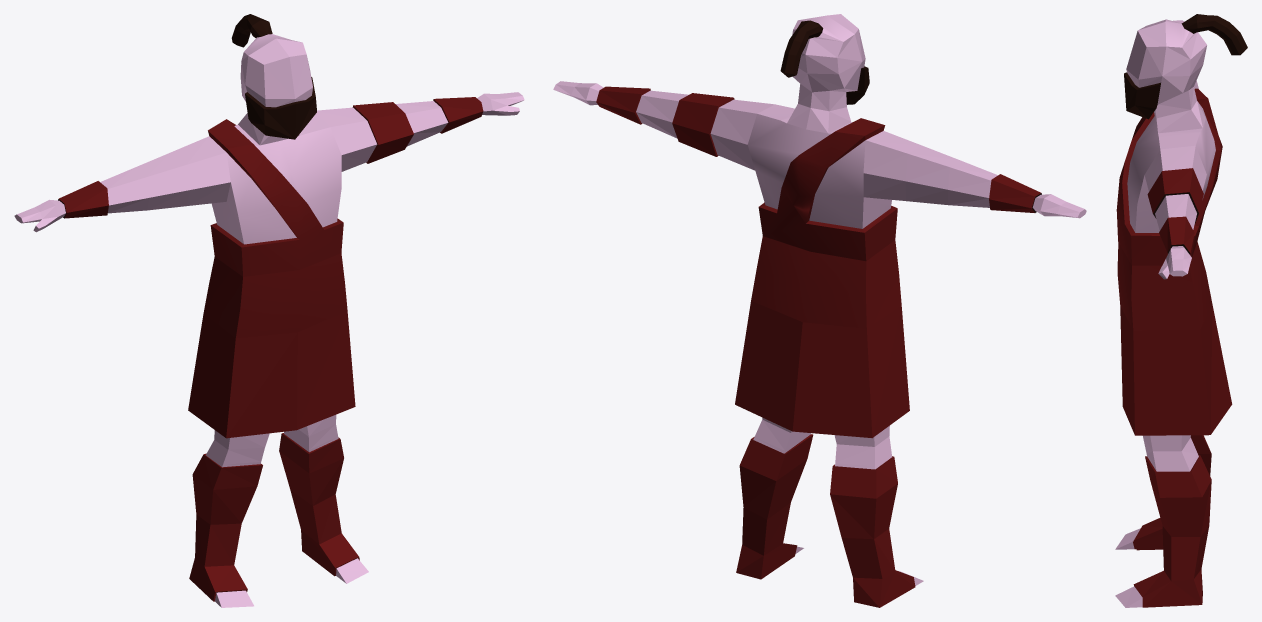
The model's file is Troll.fbx.
3 views of the same model, side by side, from view 1: azimuth 30°, elevation 25°; view 2: azimuth 150°, elevation 25°; view 3: azimuth 270°, elevation 25° (orthographic). The views are drawn at different scales.
Visible parts, largest first — view 1: Box002; view 2: Box002; view 3: Box002.
Part boxes in pixels (bbox=[...]): Box002: bbox=[14, 14, 524, 607]; Box002: bbox=[553, 14, 1086, 607]; Box002: bbox=[1115, 14, 1247, 607].
Bounding box in the file's own units: 1.96 × 2.04 × 0.4397.
